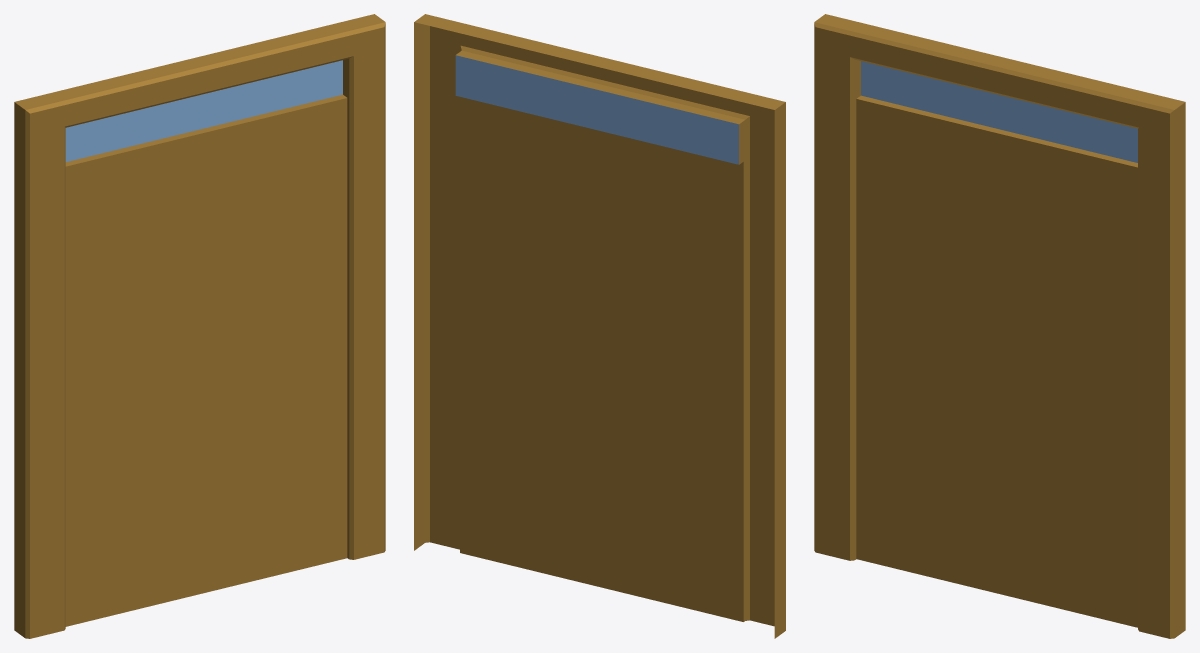
The model's file is Puerta_02.fbx.
3 views of the same model, side by side, from view 1: azimuth 30°, elevation 25°; view 2: azimuth 150°, elevation 25°; view 3: azimuth 330°, elevation 25° (orthographic).
Parts seen in each view (by area): view 1: polySurface11; view 2: polySurface11; view 3: polySurface11.
Boxes of the visible parts, bbox=[...] form: polySurface11: bbox=[14, 14, 385, 638]; polySurface11: bbox=[414, 14, 785, 638]; polySurface11: bbox=[814, 14, 1185, 638].
Bounding box in the file's own units: 307 × 430 × 18.86.
